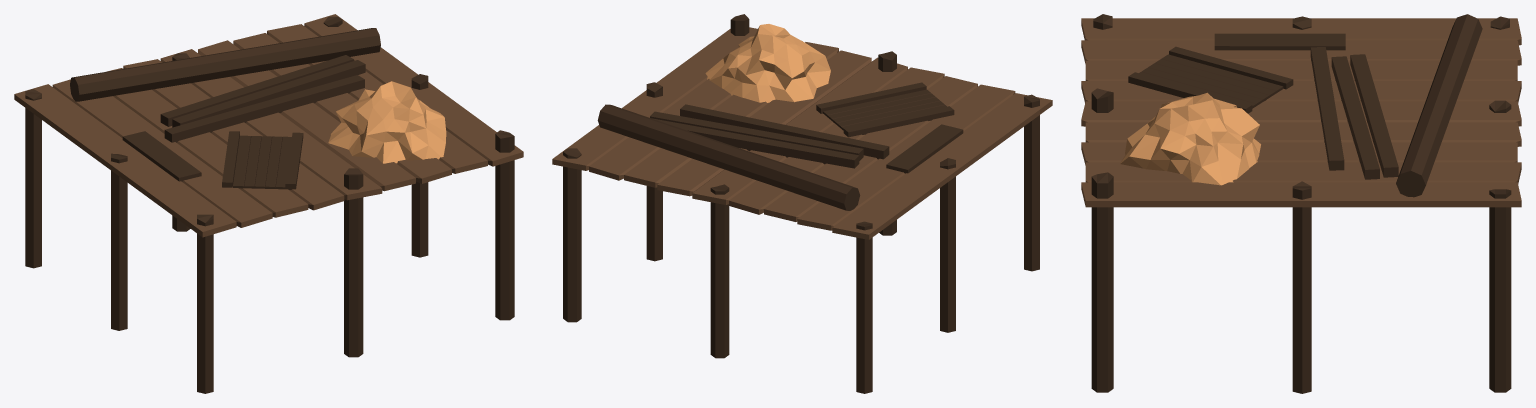
The model's file is fishery_house_build_mat.fbx.
The picture shows the model from 3 angles, left to right: view 1: azimuth 30°, elevation 25°; view 2: azimuth 150°, elevation 25°; view 3: azimuth 270°, elevation 25°; orthographic projection. The views are drawn at different scales.
Visible parts, largest first — view 1: fishery_house_build_mat; view 2: fishery_house_build_mat; view 3: fishery_house_build_mat.
Boxes of the visible parts, x1=… form: fishery_house_build_mat: x1=14, y1=14, x2=523, y2=393; fishery_house_build_mat: x1=552, y1=14, x2=1052, y2=393; fishery_house_build_mat: x1=1081, y1=14, x2=1521, y2=393.
Bounding box in the file's own units: 330 × 212 × 337.
